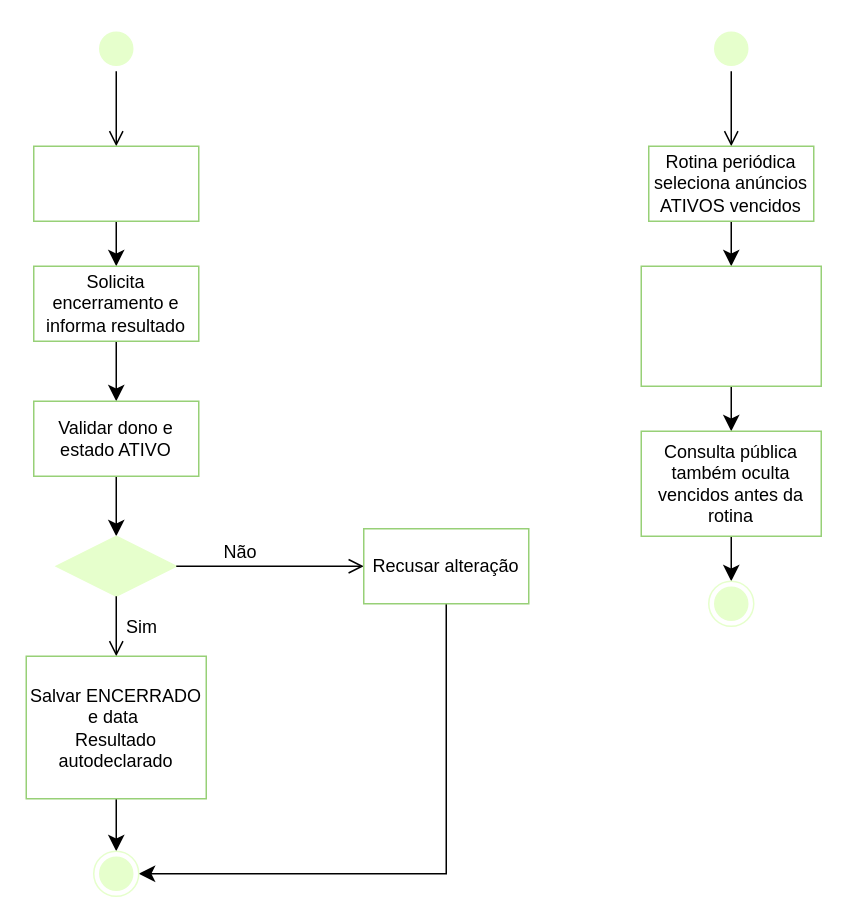
This 848x923 diagram has some shape labels left out. The shapes that lost their labels are listed below. From the top down, each one's centre as x and y in pixels, then its label:
the point at 115,183: Usuário abre anúncio própio
the point at 730,325: Atualizar para EXPIRADO Somente se ainda ATIVO
the point at 115,565: Válido?
